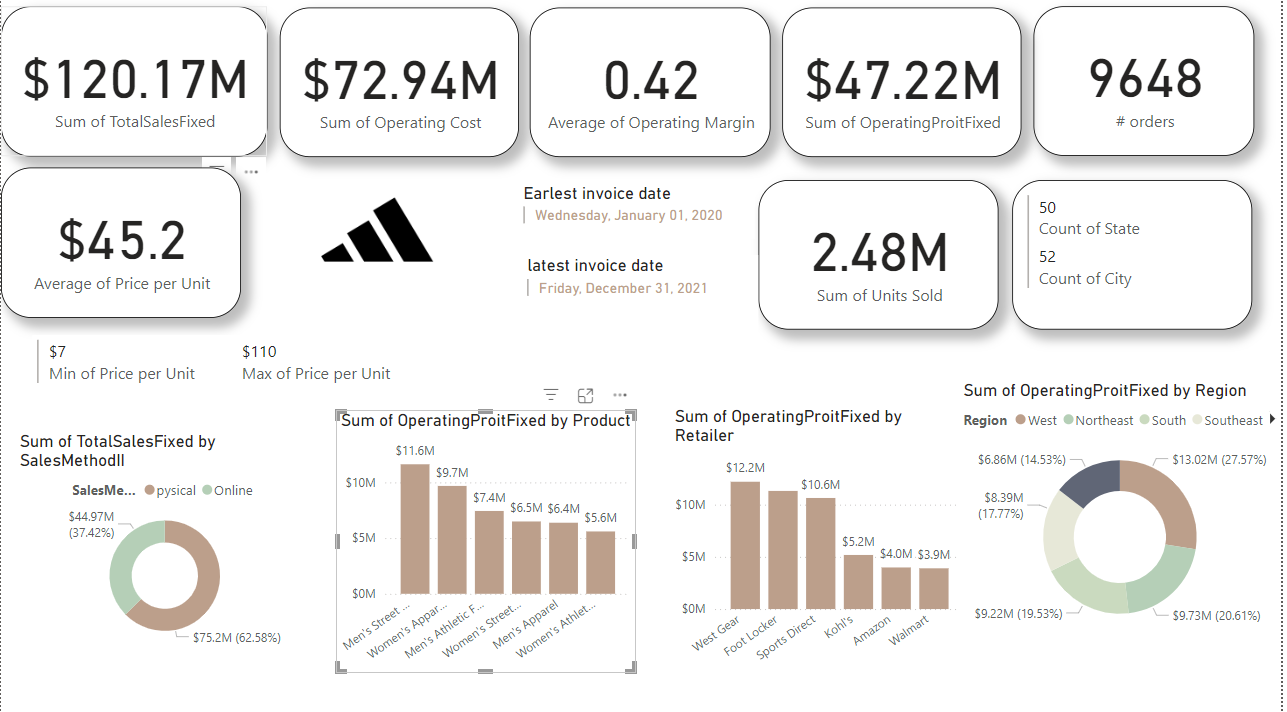

Layout of this report page (visuals, bound fields, positions):
{"tool":"powerbi","page":{"name":"overview","canvas":[1280,720],"ordinal":1},"visuals":[{"type":"card","fields":{"Values":["Sum(Data Sales Adidas.TotalSales)"]},"box":[0,6,266,150],"z":0},{"type":"card","fields":{"Values":["Sum(Data Sales Adidas.Operating Cost)"]},"box":[278.3,6.9,239.3,149.9],"z":1000},{"type":"card","fields":{"Values":["Avg(Data Sales Adidas.Operating Margin)"]},"box":[529,6.9,240.7,149.9],"z":2000},{"type":"card","fields":{"Values":["Data Sales Adidas.# orders"]},"box":[1031.9,6.9,220.9,149.6],"z":3000},{"type":"card","fields":{"Values":["Sum(Data Sales Adidas.Units Sold)"]},"box":[757.5,179.8,240.1,149.6],"z":4000},{"type":"card","fields":{"Values":["Avg(Data Sales Adidas.Price per Unit)"]},"box":[0,168,240,150],"z":5000},{"type":"multiRowCard","fields":{"Values":["Min(Data Sales Adidas.Price per Unit)","Max(Data Sales Adidas.Price per Unit)1"]},"box":[31.6,334.8,407.5,90.6],"z":6000},{"type":"multiRowCard","title":"Earlest invoice date","fields":{"Values":["Min(Data Sales Adidas.Invoice Date)"]},"box":[517.3,182.5,236,56.3],"z":7000},{"type":"multiRowCard","title":"latest invoice date","fields":{"Values":["Max(Data Sales Adidas.Invoice Date)"]},"box":[521.4,255.2,236,91.9],"z":8000},{"type":"card","fields":{"Values":["Sum(Data Sales Adidas.OperatingProitFixed)"]},"box":[781.2,6.9,239.3,149.9],"z":9000},{"type":"multiRowCard","fields":{"Values":["Count(Data Sales Adidas.State)","Data Sales Adidas.City"]},"box":[1011.3,179.8,240.1,149.6],"z":10000},{"type":"donutChart","fields":{"Category":["Data Sales Adidas.SalesMethodII"],"Y":["Sum(Data Sales Adidas.TotalSalesFixed)"]},"box":[13.7,430.9,300.5,220.9],"z":11000},{"type":"clusteredColumnChart","fields":{"Y":["Sum(Data Sales Adidas.OperatingProitFixed)"],"Category":["Data Sales Adidas.Product"]},"box":[334.7,410,300,262],"z":12000},{"type":"clusteredColumnChart","fields":{"Y":["Sum(Data Sales Adidas.OperatingProitFixed)"],"Category":["Data Sales Adidas.Retailer"]},"box":[669.3,406.8,300,278],"z":13000},{"type":"donutChart","fields":{"Y":["Sum(Data Sales Adidas.OperatingProitFixed)"],"Category":["Data Sales Adidas.Region"]},"box":[957.1,379.5,323.2,265.4],"z":14000},{"type":"image","box":[314.2,168.8,124.9,122.1],"z":15000}]}

Visuals, with their boxes in screenshot pixels (x1, y1, x2, y2), scaled from the page's 1280x720 canvas onto the 1287x712 screenshot:
card - Sum(Data Sales Adidas.TotalSales): <region>0, 6, 267, 154</region>
card - Sum(Data Sales Adidas.Operating Cost): <region>280, 7, 520, 155</region>
card - Avg(Data Sales Adidas.Operating Margin): <region>532, 7, 774, 155</region>
card - Data Sales Adidas.# orders: <region>1038, 7, 1260, 155</region>
card - Sum(Data Sales Adidas.Units Sold): <region>762, 178, 1003, 326</region>
card - Avg(Data Sales Adidas.Price per Unit): <region>0, 166, 241, 314</region>
multiRowCard - Min(Data Sales Adidas.Price per Unit) x Max(Data Sales Adidas.Price per Unit)1: <region>32, 331, 442, 421</region>
"Earlest invoice date" multiRowCard: <region>520, 180, 757, 236</region>
"latest invoice date" multiRowCard: <region>524, 252, 762, 343</region>
card - Sum(Data Sales Adidas.OperatingProitFixed): <region>785, 7, 1026, 155</region>
multiRowCard - Count(Data Sales Adidas.State) x Data Sales Adidas.City: <region>1017, 178, 1258, 326</region>
donutChart - Data Sales Adidas.SalesMethodII x Sum(Data Sales Adidas.TotalSalesFixed): <region>14, 426, 316, 645</region>
clusteredColumnChart - Sum(Data Sales Adidas.OperatingProitFixed) x Data Sales Adidas.Product: <region>337, 405, 638, 665</region>
clusteredColumnChart - Sum(Data Sales Adidas.OperatingProitFixed) x Data Sales Adidas.Retailer: <region>673, 402, 975, 677</region>
donutChart - Sum(Data Sales Adidas.OperatingProitFixed) x Data Sales Adidas.Region: <region>962, 375, 1286, 638</region>
image: <region>316, 167, 442, 288</region>
